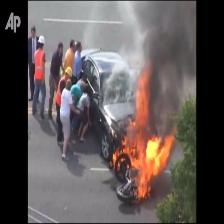fire: (113, 59, 175, 200)
